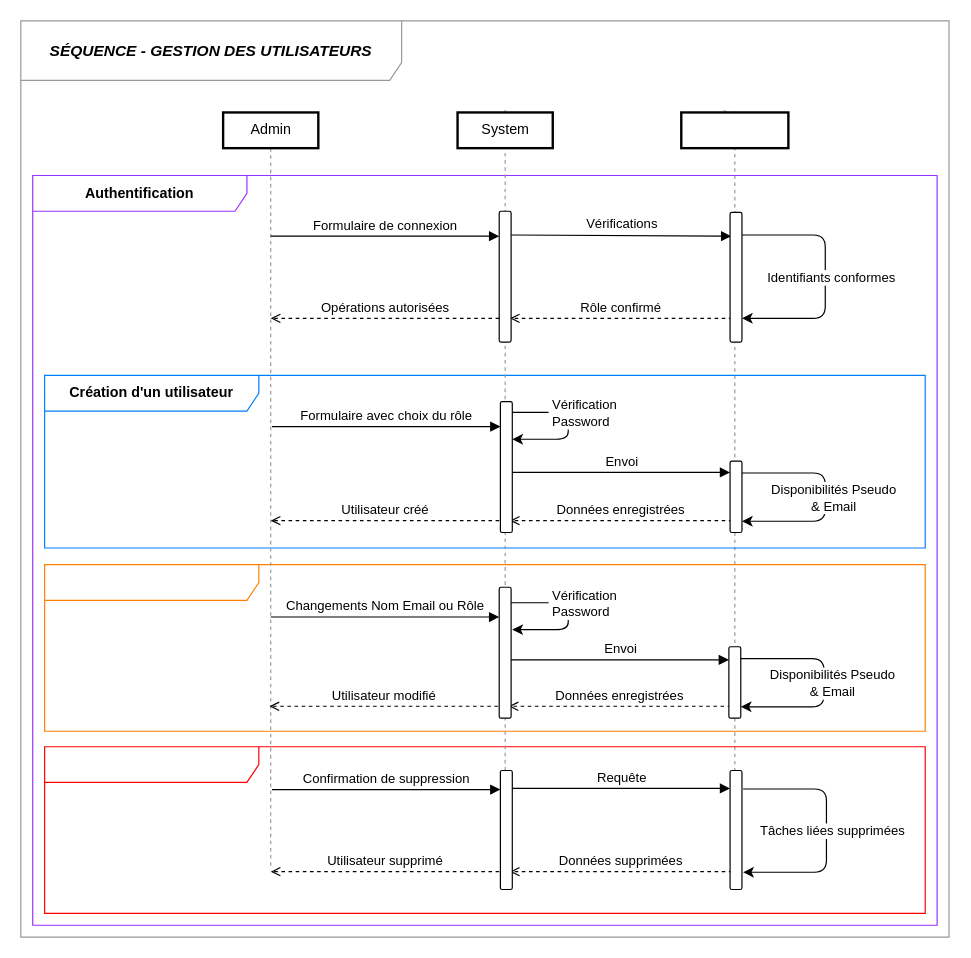
The diagram is 971 pixels wide and 958 high, and some of its shapes have lost their labels. The shapes that lost their labels are listed below. From the top down, each one's centre as x and y in pixels, then its label:
At pixel 734 130: "Database".
At pixel 484 647: "Modification".
At pixel 484 829: "Suppression".
